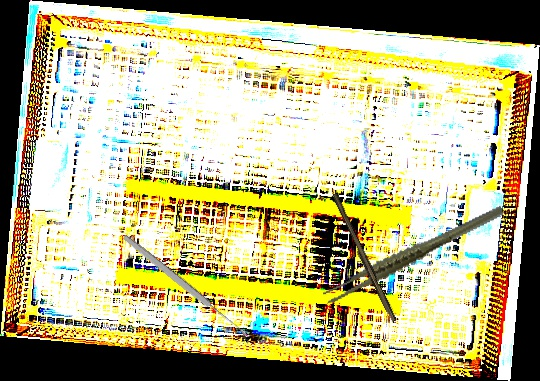Scalpel Handle: (328, 192, 399, 324)
Surgical Spoon: (121, 232, 249, 339)
Tissue Forceps: (312, 204, 515, 306)
